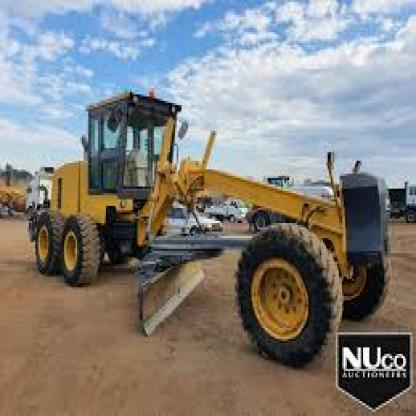bull_dozer/loader/grader: (18, 81, 395, 376)
